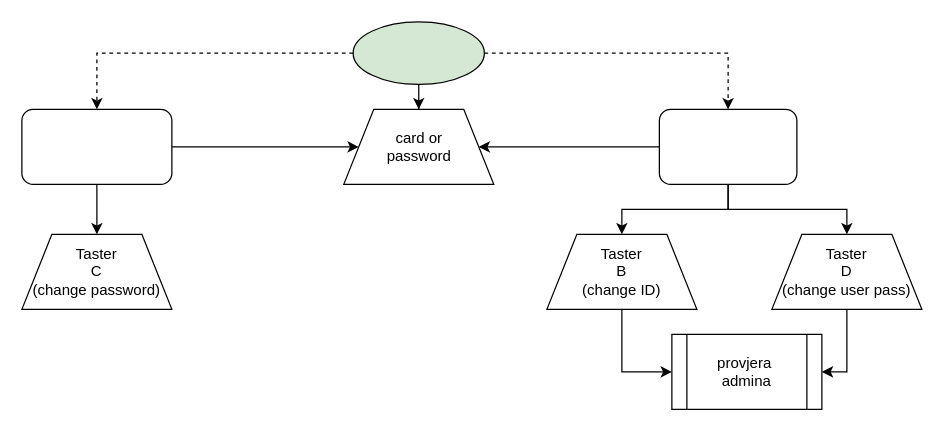
Some shapes in this 944 by 431 pixel diagram are drawn without their labels. The shapes that lost their labels are listed below. From the top down, each one's centre as x and y in pixels, then its label:
the point at 418,52: START
the point at 96,146: USER
the point at 727,146: ADMIN
